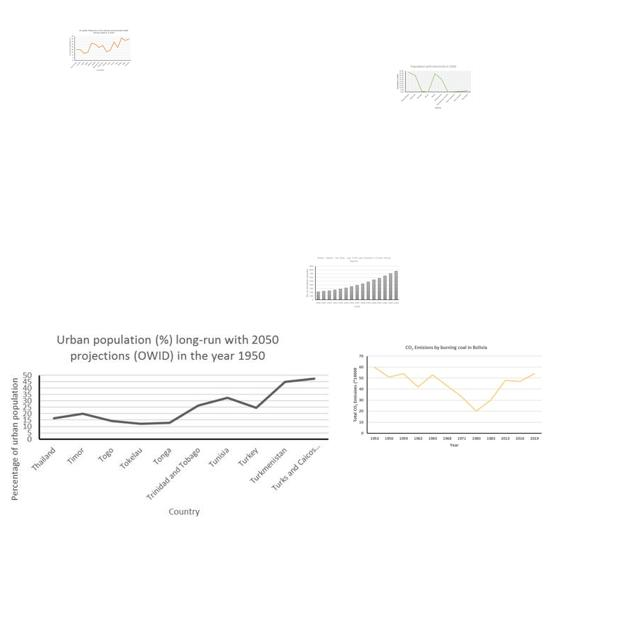Graph: (4, 329, 336, 522), (350, 342, 544, 450), (304, 255, 400, 310), (394, 63, 473, 111), (68, 29, 132, 72)
